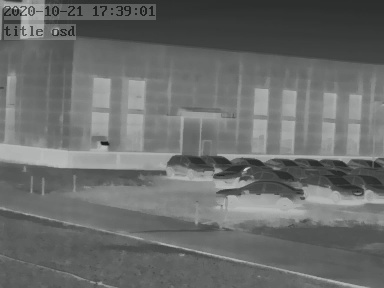vehicle: (216, 178, 304, 208), (299, 171, 364, 200), (210, 161, 264, 188), (165, 152, 214, 179), (212, 151, 256, 173), (351, 173, 384, 201), (347, 156, 381, 171), (267, 154, 297, 170), (295, 155, 325, 170), (317, 156, 348, 170)
